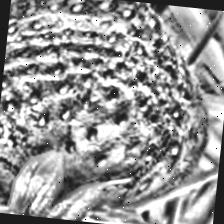Anthracnose Fruit Rot: (0, 7, 206, 217)
